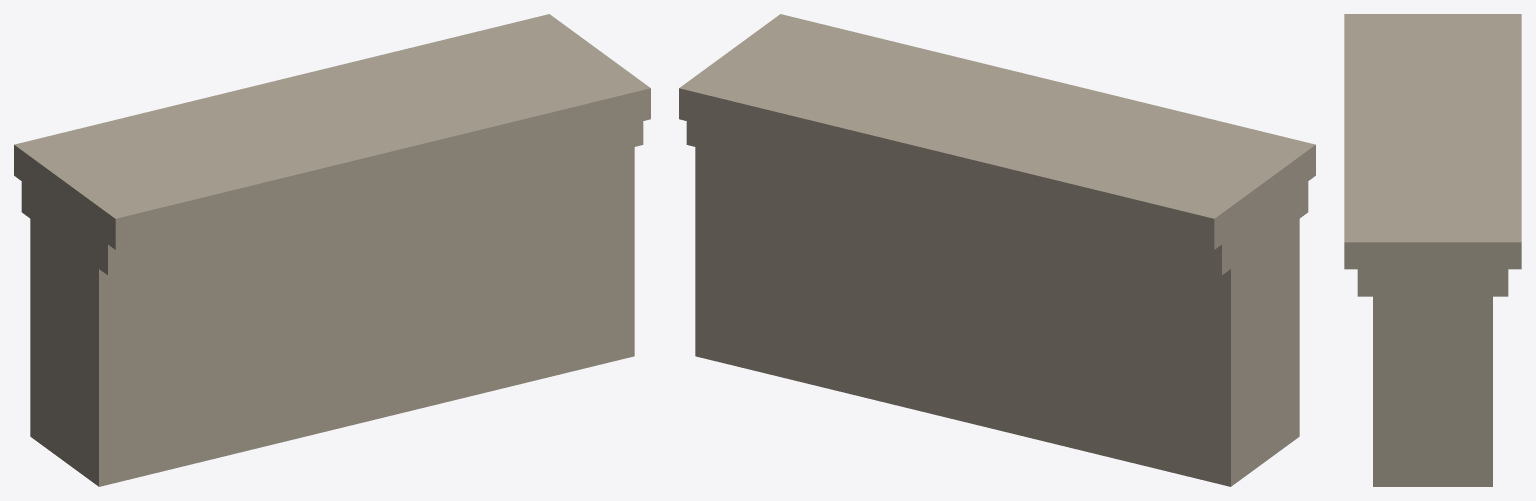
The model's file is Village_Wall_Plaster_QuarterM_Roof_A.fbx.
The picture shows the model from 3 angles, left to right: view 1: azimuth 30°, elevation 25°; view 2: azimuth 150°, elevation 25°; view 3: azimuth 270°, elevation 25°; orthographic projection. The views are drawn at different scales.
Visible parts, largest first — view 1: Village_Wall_2m_Roof_A.039; view 2: Village_Wall_2m_Roof_A.039; view 3: Village_Wall_2m_Roof_A.039.
Part boxes in pixels (bbox=[...]): Village_Wall_2m_Roof_A.039: bbox=[14, 14, 650, 486]; Village_Wall_2m_Roof_A.039: bbox=[679, 14, 1315, 486]; Village_Wall_2m_Roof_A.039: bbox=[1344, 14, 1521, 486].
Size of the model in its own units: 112 by 56.23 by 36.91.
